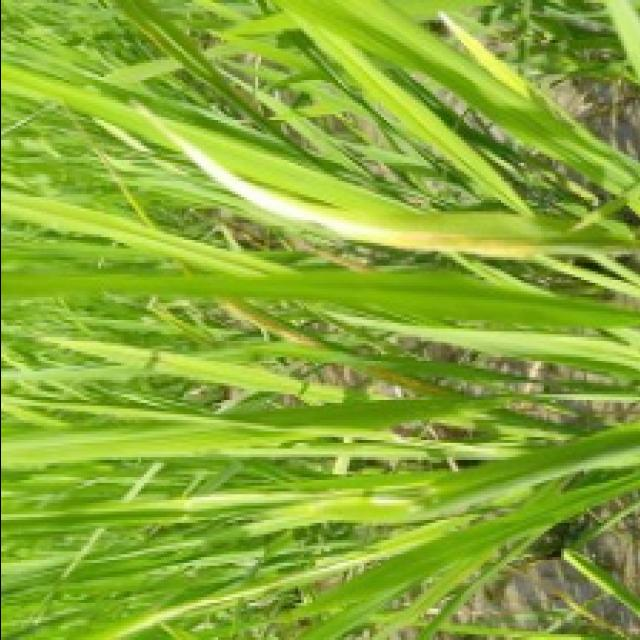Unhealthy: (129, 97, 526, 259), (221, 301, 325, 346), (362, 367, 445, 393)
